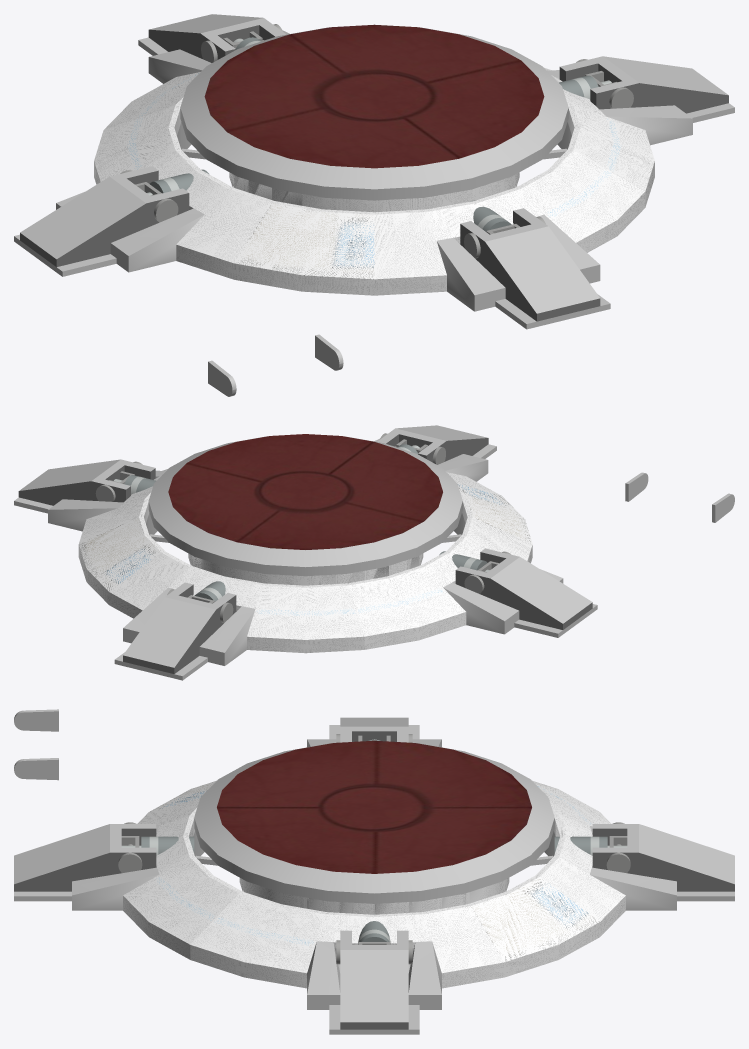
Rendered from Button.dae.
The picture shows the model from 3 angles, top to bottom: view 1: azimuth 30°, elevation 25°; view 2: azimuth 150°, elevation 25°; view 3: azimuth 270°, elevation 25°; orthographic projection. The views are drawn at different scales.
Visible parts, largest first — view 1: group_3.003, group_29.003, group_12.008, instance_22.002, group_12.024, group_3, group_29.001, instance_8.002, group_3.001, instance_9.002, group_19, group_12.025 (+18 smaller); view 2: group_3.003, group_1.003, instance_30.002, instance_9.002, group_12, group_29.003, group_12.024, group_3, group_3.001, group_18, group_12.025, instance_30 (+18 smaller); view 3: group_3.003, group_1.003, instance_8.002, group_12.016, instance_22.002, group_3, group_12, group_12.008, group_3.001, group_1.001, group_12.001, group_12.009 (+21 smaller).
Part boxes in pixels (x1=…): group_3.003: x1=180, y1=24, x2=568, y2=189; group_29.003: x1=176, y1=185, x2=446, y2=279; group_12.008: x1=461, y1=208, x2=599, y2=313; instance_22.002: x1=509, y1=150, x2=644, y2=242; group_12.024: x1=20, y1=166, x2=188, y2=259; group_3: x1=180, y1=108, x2=568, y2=200; group_29.001: x1=176, y1=245, x2=446, y2=295; instance_8.002: x1=569, y1=100, x2=654, y2=191; group_3.001: x1=229, y1=172, x2=519, y2=212; instance_9.002: x1=94, y1=105, x2=180, y2=181; group_19: x1=110, y1=208, x2=204, y2=272; group_12.025: x1=20, y1=170, x2=189, y2=267; group_3.003: x1=148, y1=434, x2=462, y2=567; group_1.003: x1=79, y1=495, x2=187, y2=610; instance_30.002: x1=242, y1=583, x2=364, y2=639; instance_9.002: x1=349, y1=563, x2=465, y2=636; group_12: x1=123, y1=582, x2=235, y2=667; group_29.003: x1=446, y1=472, x2=532, y2=560; group_12.024: x1=456, y1=548, x2=592, y2=623; group_3: x1=148, y1=501, x2=462, y2=576; group_3.001: x1=188, y1=553, x2=423, y2=585; group_18: x1=443, y1=582, x2=519, y2=634; group_12.025: x1=455, y1=552, x2=592, y2=629; instance_30: x1=247, y1=581, x2=364, y2=653; group_3.003: x1=194, y1=740, x2=554, y2=893; group_1.003: x1=411, y1=857, x2=625, y2=973; instance_8.002: x1=190, y1=893, x2=337, y2=973; group_12.016: x1=340, y1=930, x2=408, y2=1022; instance_22.002: x1=123, y1=852, x2=238, y2=944; group_3: x1=194, y1=818, x2=554, y2=903; group_12: x1=592, y1=824, x2=734, y2=884; group_12.008: x1=14, y1=824, x2=156, y2=884; group_3.001: x1=239, y1=878, x2=509, y2=914; group_1.001: x1=442, y1=896, x2=625, y2=988; group_12.001: x1=592, y1=828, x2=734, y2=891; group_12.009: x1=14, y1=828, x2=156, y2=891.
Size of the model in its own units: 90 by 90 by 10.31.
